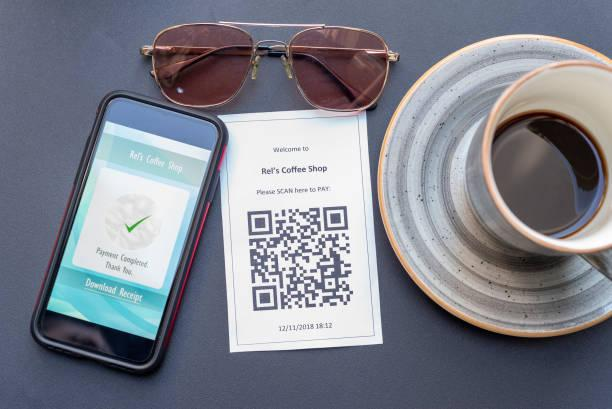Finder pattern: (250, 283, 281, 314), (245, 208, 276, 237), (321, 204, 352, 232)
